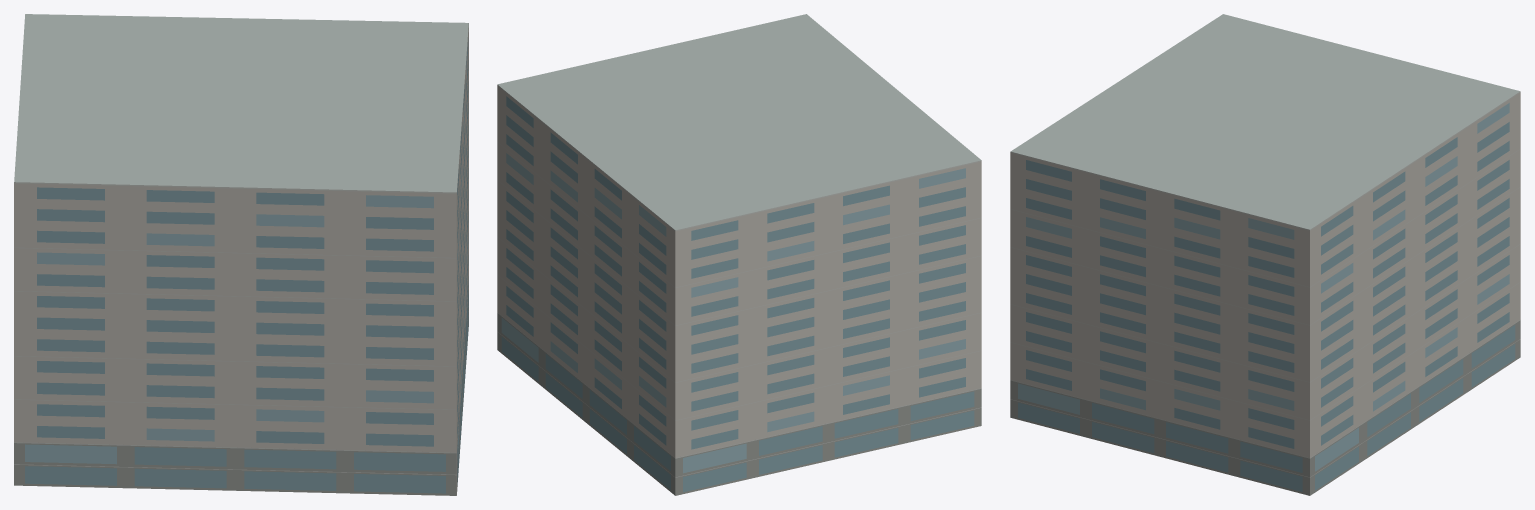
File: survey-upis-33044466.glb
3 renders of one model, left to right at view 1: azimuth 30°, elevation 25°; view 2: azimuth 150°, elevation 25°; view 3: azimuth 270°, elevation 25°, orthographic. The views are drawn at different scales.
Visible parts, largest first — view 1: survey-upis-33044466.tmp; view 2: survey-upis-33044466.tmp; view 3: survey-upis-33044466.tmp.
Boxes of the visible parts, x1,y1,x2,y2 form: survey-upis-33044466.tmp: [14, 14, 468, 495]; survey-upis-33044466.tmp: [497, 14, 981, 495]; survey-upis-33044466.tmp: [1010, 14, 1520, 495].
Size of the model in its own units: 103 by 59 by 102.
